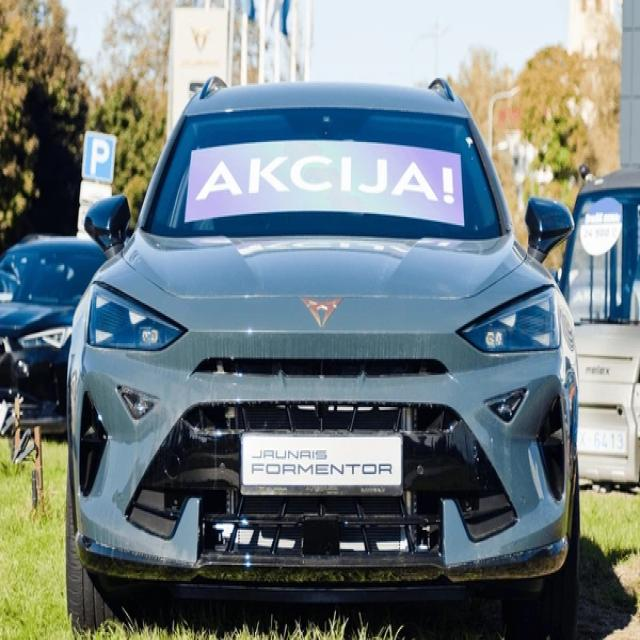cupra: (298, 290, 344, 328)
